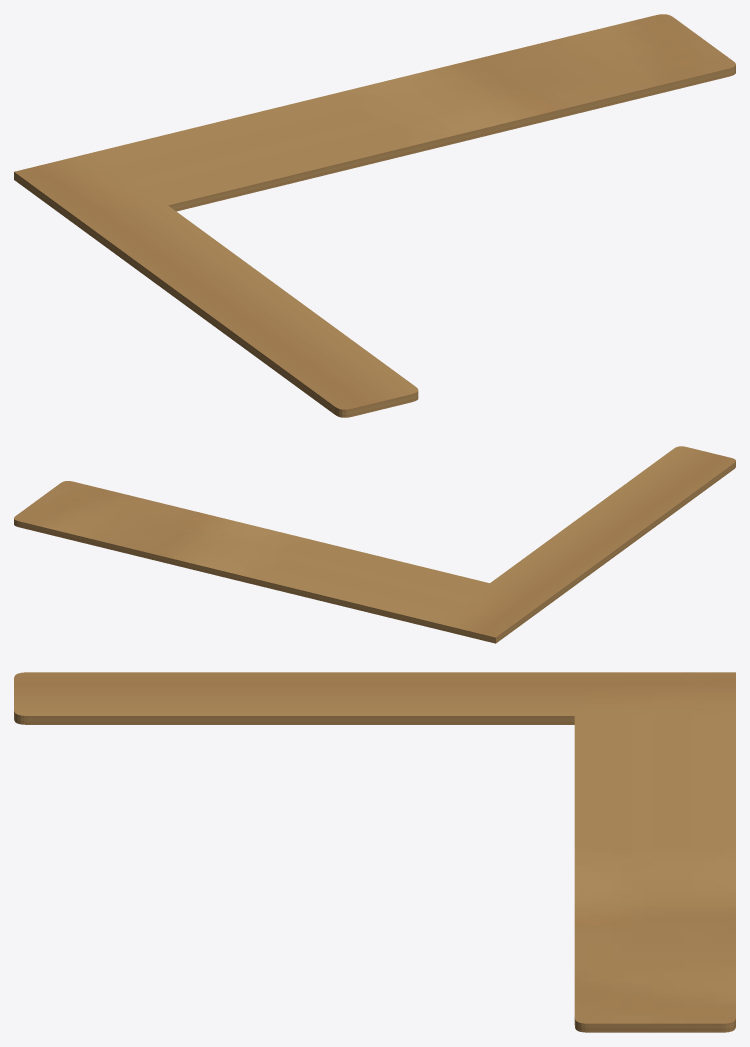
Rendered from mejapel2.fbx.
3 renders of one model, top to bottom at view 1: azimuth 30°, elevation 25°; view 2: azimuth 150°, elevation 25°; view 3: azimuth 270°, elevation 25°, orthographic. The views are drawn at different scales.
Parts seen in each view (by area): view 1: meja pel1; view 2: meja pel1; view 3: meja pel1.
Part boxes in pixels (left/top/right/bottom): meja pel1: left=14, top=14, right=735, bottom=417; meja pel1: left=14, top=446, right=735, bottom=643; meja pel1: left=14, top=672, right=735, bottom=1032.
Bounding box in the file's own units: 1673 × 19.89 × 1453.
